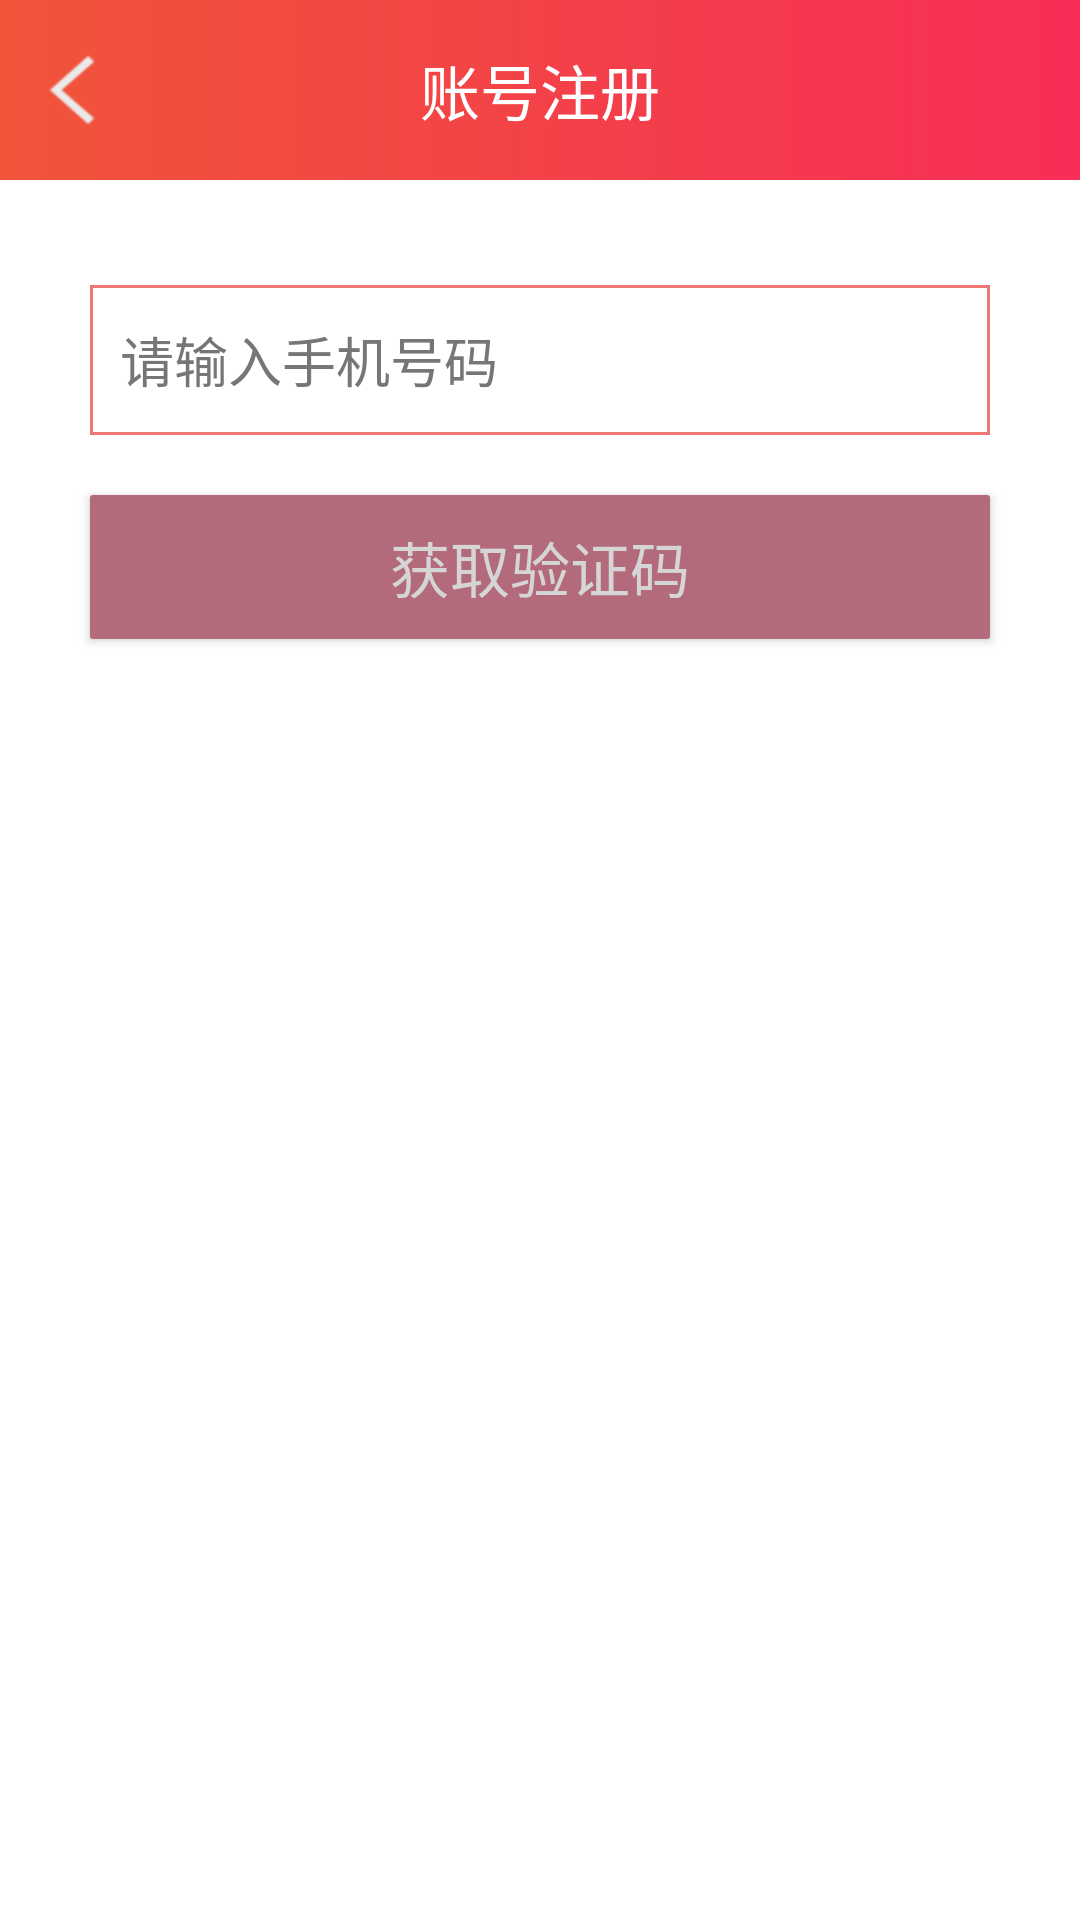

Named icons in this screenshot (1080x1920) and their bounding boxes, (x1, y1, x2, y2):
back: (50, 55, 95, 125)
